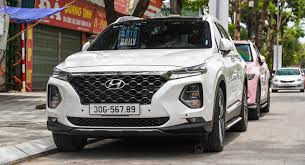number-plate: (89, 103, 139, 115)
